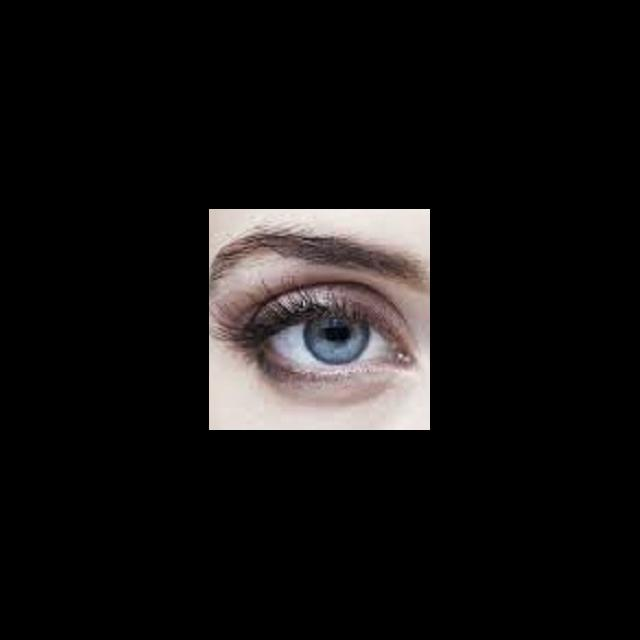eye: (268, 317, 390, 369)
iris: (304, 320, 371, 365)
